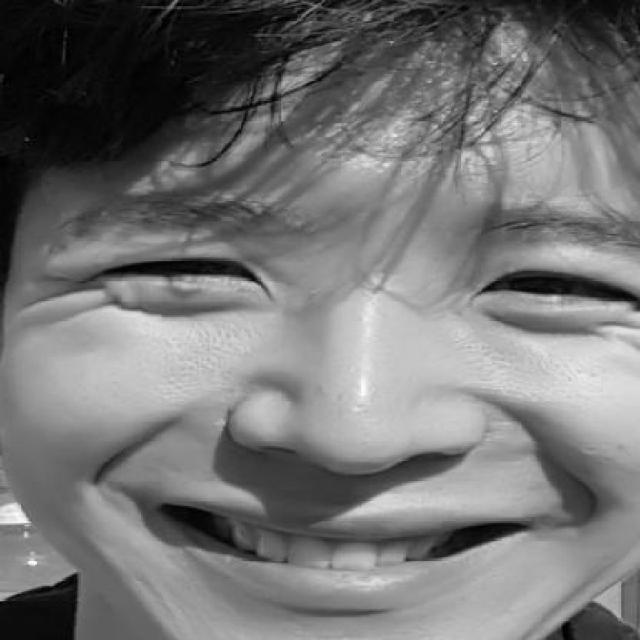happy: (51, 184, 640, 619)
